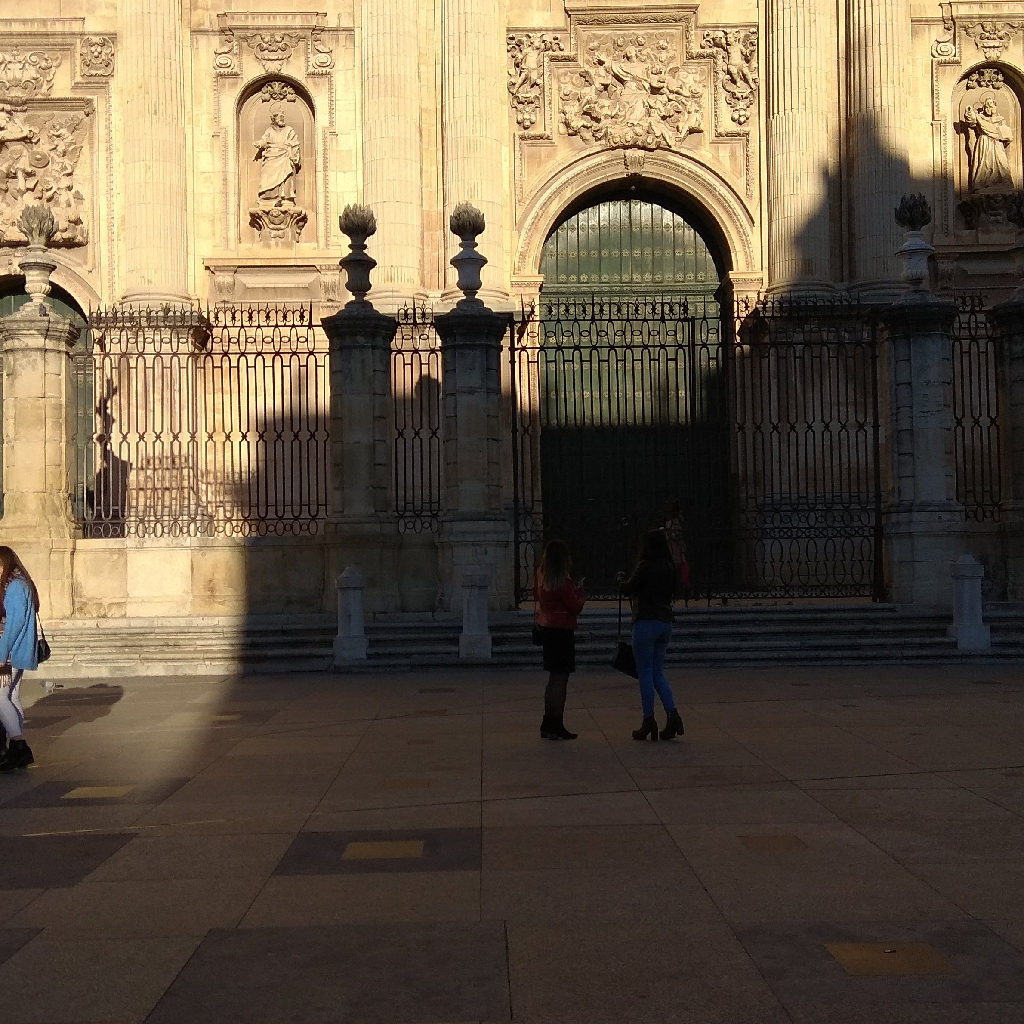arco-medio-punto: (529, 162, 744, 315)
